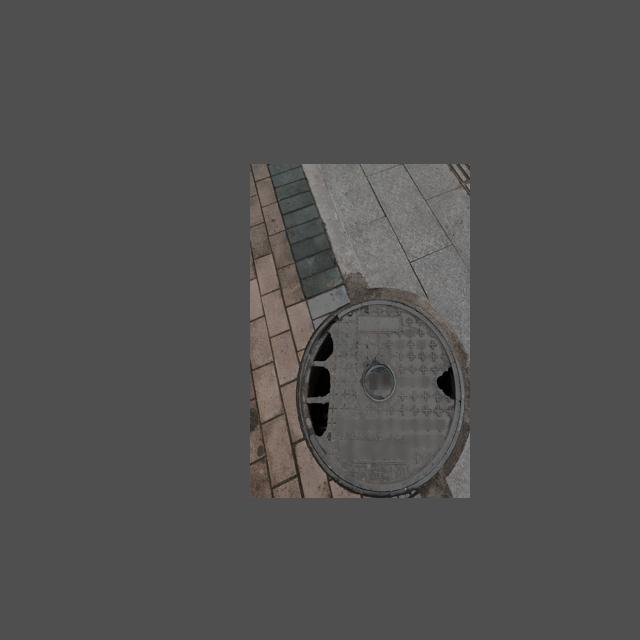broke: (301, 312, 462, 490)
